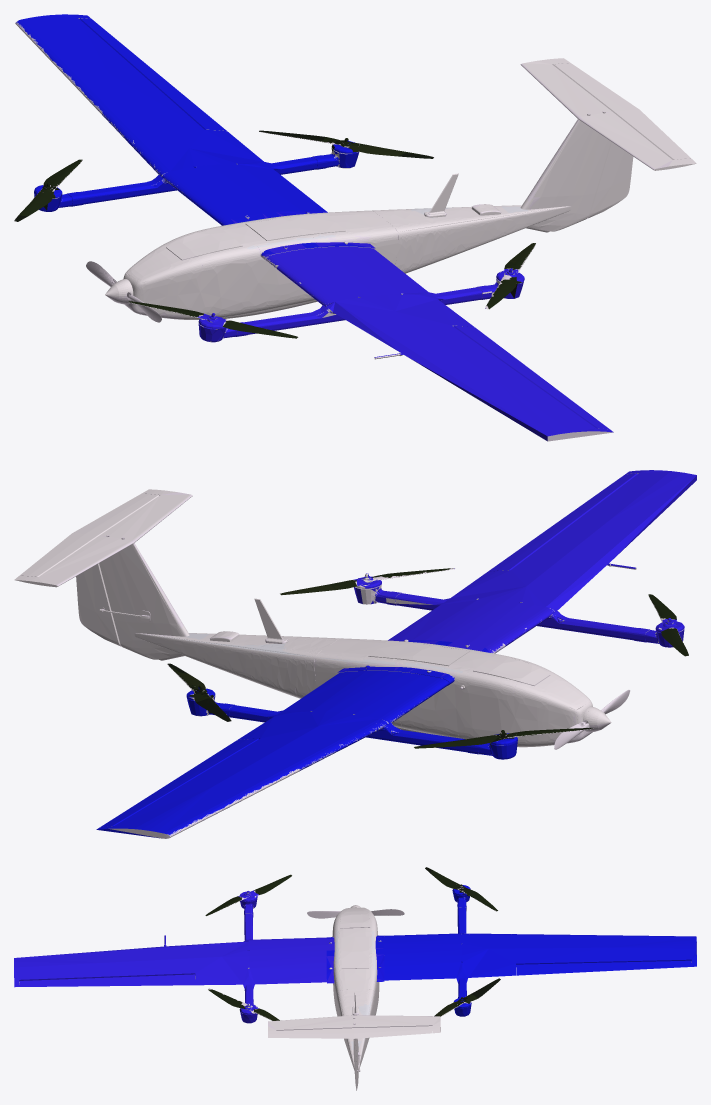
File: color_drone.glb
The picture shows the model from 3 angles, top to bottom: view 1: azimuth 30°, elevation 25°; view 2: azimuth 150°, elevation 25°; view 3: azimuth 270°, elevation 25°; orthographic projection. The views are drawn at different scales.
Visible parts, largest first — view 1: FabConvert.com_vtol_concept; view 2: FabConvert.com_vtol_concept; view 3: FabConvert.com_vtol_concept.
Part boxes in pixels (x1,y1,x2,y2): FabConvert.com_vtol_concept: [14, 14, 696, 441]; FabConvert.com_vtol_concept: [14, 470, 696, 838]; FabConvert.com_vtol_concept: [14, 867, 696, 1090].
Size of the model in its own units: 1999 by 396 by 3200.
